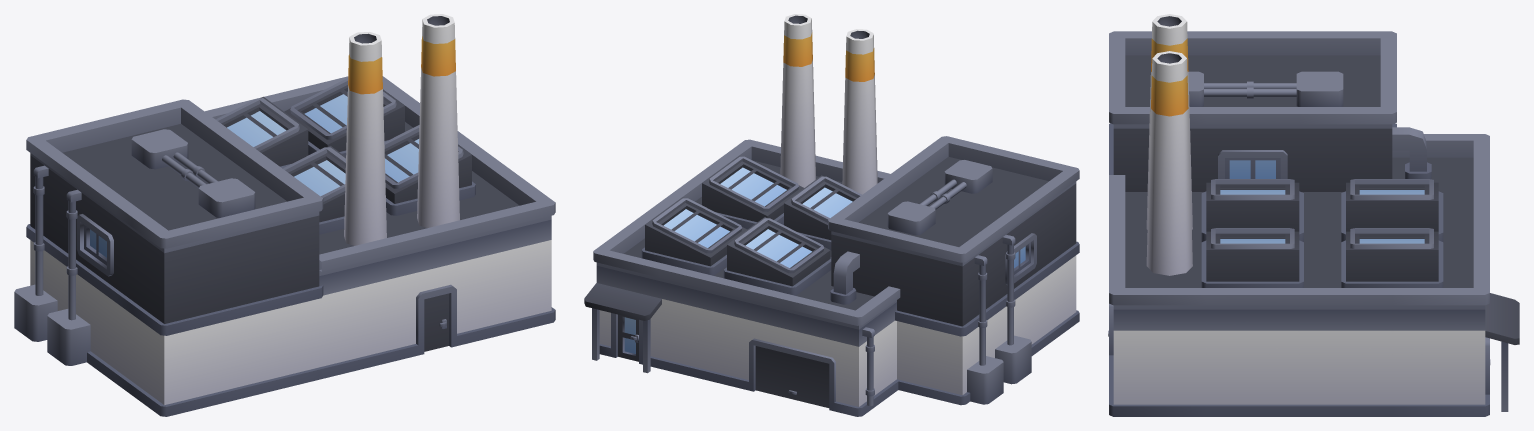
Rendered from medium_factory.glb.
3 views of the same model, side by side, from view 1: azimuth 30°, elevation 25°; view 2: azimuth 150°, elevation 25°; view 3: azimuth 270°, elevation 25° (orthographic). The views are drawn at different scales.
Parts seen in each view (by area): view 1: medium_factory; view 2: medium_factory; view 3: medium_factory.
Part boxes in pixels (box(x1,y1,x2,y2)): medium_factory: box(14, 14, 555, 416); medium_factory: box(584, 14, 1079, 416); medium_factory: box(1108, 14, 1519, 416).
Bounding box in the file's own units: 2.14 × 1.49 × 1.77.
Materials: 2 (2 with a texture image).
